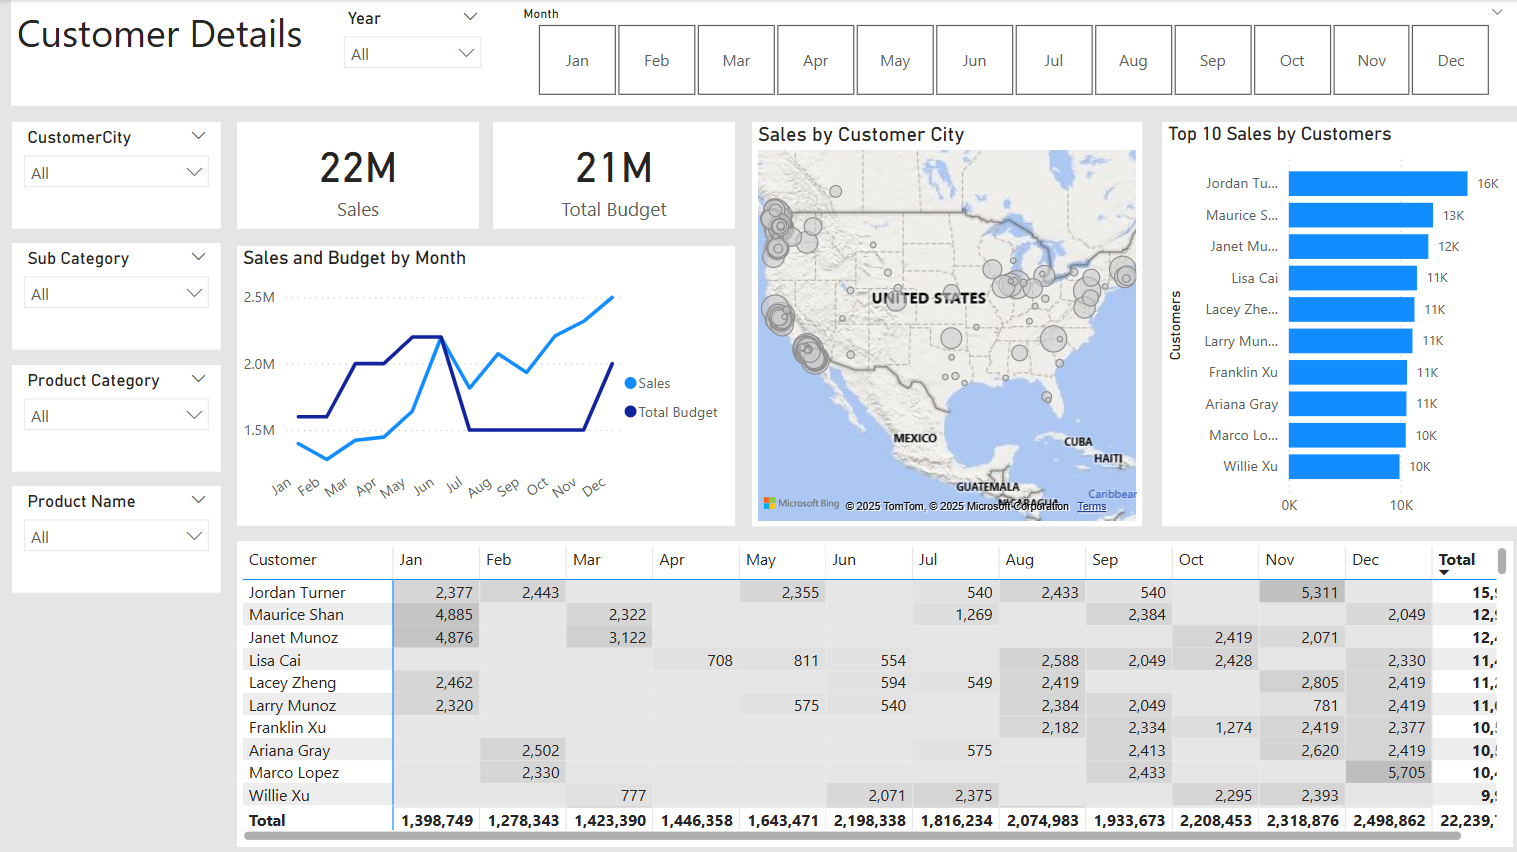

The page's visual inventory and layout, read from the dashboard file:
{"tool":"powerbi","page":{"name":"Customer Details","canvas":[1280,720],"ordinal":1},"visuals":[{"type":"textbox","box":[9.4,0,1269.9,88.8],"z":0},{"type":"slicer","fields":{"Values":["DIM_Customer.CustomerCity"]},"box":[10,102.5,176.2,90],"z":1000},{"type":"slicer","fields":{"Values":["DIM_Product.Sub Category"]},"box":[10,205,176.2,90],"z":2000},{"type":"slicer","fields":{"Values":["DIM_Product.Product Category"]},"box":[10,307.5,176.2,90],"z":3000},{"type":"slicer","fields":{"Values":["DIM_Product.ProductName"]},"box":[10,410,176.2,90],"z":4000},{"type":"slicer","fields":{"Values":["DIM_Calendar.Year"]},"box":[280,2.9,135.7,84.3],"z":5000},{"type":"slicer","fields":{"Values":["DIM_Calendar.MonthShort"]},"box":[428.6,0,851.4,87.1],"z":6000},{"type":"lineChart","title":"Sales and Budget by Month","fields":{"Y":["Key Measures.Sales","Key Measures.Total Budget"],"Category":["DIM_Calendar.MonthShort"]},"box":[200,207.1,420,235.7],"z":9000},{"type":"barChart","title":"Top 10 Sales by Customers","fields":{"Y":["Key Measures.Sales"],"Category":["DIM_Customer.FullName"]},"box":[980,102.5,300,341.2],"z":10000},{"type":"map","title":"Sales by Customer City","fields":{"Category":["DIM_Customer.CustomerCity"],"Size":["Key Measures.Sales"]},"box":[633.8,102.5,328.8,341.2],"z":12000},{"type":"card","fields":{"Values":["Key Measures.Sales"]},"box":[200,102.9,204.3,90],"z":12001},{"type":"card","fields":{"Values":["Key Measures.Total Budget"]},"box":[415.7,102.9,204.3,90],"z":12002},{"type":"pivotTable","fields":{"Rows":["DIM_Customer.FullName"],"Values":["Key Measures.Sales"],"Columns":["DIM_Calendar.MonthShort"]},"box":[200,456.2,1076.2,257.5],"z":12003}]}

Visuals, with their boxes in screenshot pixels (x1, y1, x2, y2), scaled from the page's 1280x720 canvas onto the 1517x852 screenshot:
textbox: BBox(11, 0, 1516, 105)
slicer - DIM_Customer.CustomerCity: BBox(12, 121, 221, 228)
slicer - DIM_Product.Sub Category: BBox(12, 243, 221, 349)
slicer - DIM_Product.Product Category: BBox(12, 364, 221, 470)
slicer - DIM_Product.ProductName: BBox(12, 485, 221, 592)
slicer - DIM_Calendar.Year: BBox(332, 3, 493, 103)
slicer - DIM_Calendar.MonthShort: BBox(508, 0, 1516, 103)
"Sales and Budget by Month" lineChart: BBox(237, 245, 735, 524)
"Top 10 Sales by Customers" barChart: BBox(1161, 121, 1516, 525)
"Sales by Customer City" map: BBox(751, 121, 1141, 525)
card - Key Measures.Sales: BBox(237, 122, 479, 228)
card - Key Measures.Total Budget: BBox(493, 122, 735, 228)
pivotTable - DIM_Customer.FullName x Key Measures.Sales: BBox(237, 540, 1512, 845)
